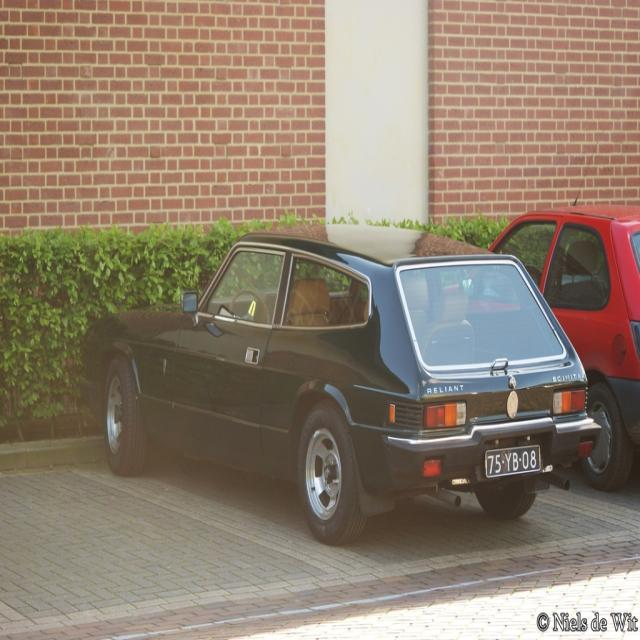car: (77, 222, 600, 546)
